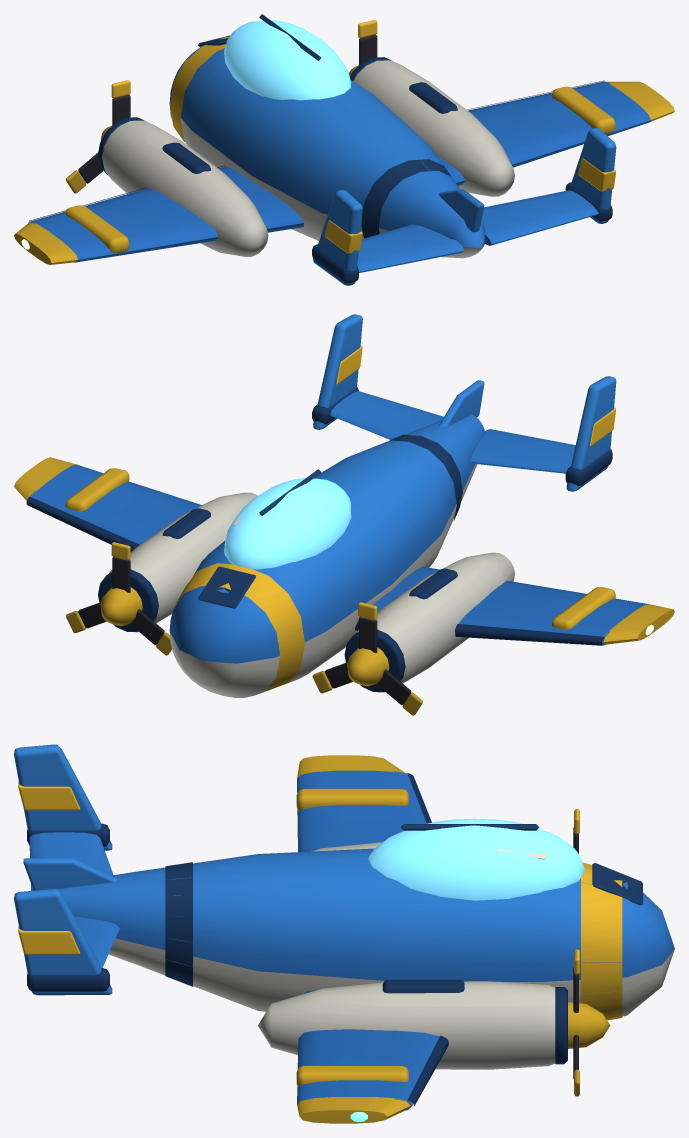
Rendered from bomber.glb.
3 renders of one model, top to bottom at view 1: azimuth 30°, elevation 25°; view 2: azimuth 150°, elevation 25°; view 3: azimuth 270°, elevation 25°, orthographic. The views are drawn at different scales.
Visible parts, largest first — view 1: bomber Kestrel sky, bomber Warm white, bomber Livery, bomber Glass, bomber Kestrel navy, bomber PropellerL Ashen charcoal, bomber PropellerL Sunflower, bomber PropellerR Ashen charcoal; view 2: bomber Kestrel sky, bomber Warm white, bomber Kestrel navy, bomber Livery, bomber Glass, bomber PropellerL Ashen charcoal, bomber PropellerR Ashen charcoal, bomber PropellerR Livery, bomber PropellerL Livery, bomber PropellerL Sunflower, bomber PropellerR Sunflower; view 3: bomber Kestrel sky, bomber Warm white, bomber Livery, bomber Glass, bomber Kestrel navy, bomber PropellerR Livery.
Boxes of the visible parts, x1,y1,x2,y2 form: bomber Kestrel sky: (28,38,651,285); bomber Warm white: (102,28,514,258); bomber Livery: (14,37,674,264); bomber Glass: (224,20,351,100); bomber Kestrel navy: (29,14,612,283); bomber PropellerL Ashen charcoal: (78,95,130,183); bomber PropellerL Sunflower: (66,80,130,193); bomber PropellerR Ashen charcoal: (359,34,377,64); bomber Kestrel sky: (30,314,648,663); bomber Warm white: (109,464,514,697); bomber Kestrel navy: (26,387,612,692); bomber Livery: (14,345,674,692); bomber Glass: (224,478,351,569); bomber PropellerL Ashen charcoal: (325,617,411,704); bomber PropellerR Ashen charcoal: (78,557,164,644); bomber PropellerR Livery: (100,587,142,626); bomber PropellerL Livery: (347,647,389,686); bomber PropellerL Sunflower: (312,602,422,715); bomber PropellerR Sunflower: (66,542,171,655); bomber Kestrel sky: (14,744,674,1110); bomber Warm white: (108,842,674,1069); bomber Livery: (18,755,622,1123); bomber Glass: (368,818,585,900); bomber Kestrel navy: (27,773,642,1106); bomber PropellerR Livery: (568,1002,610,1048).
Bounding box in the file's own units: 9.17 × 2.56 × 7.16.
Materials: 10 (7 with a texture image).
